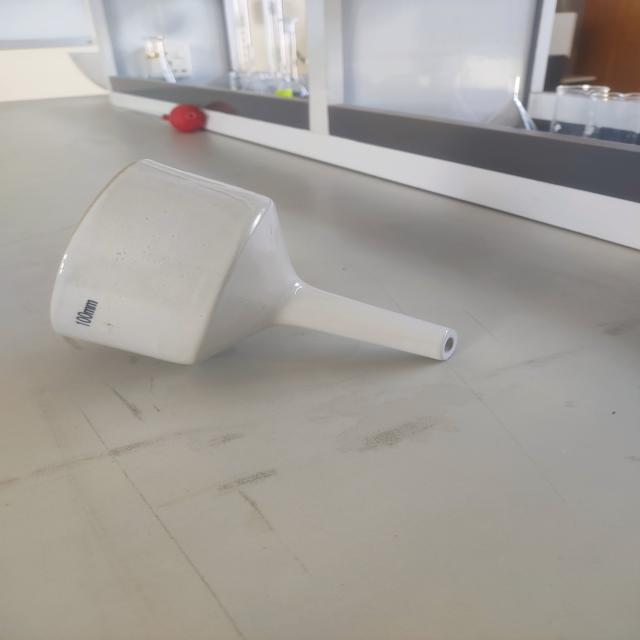Buchner_Funnel: (26, 133, 488, 408)
